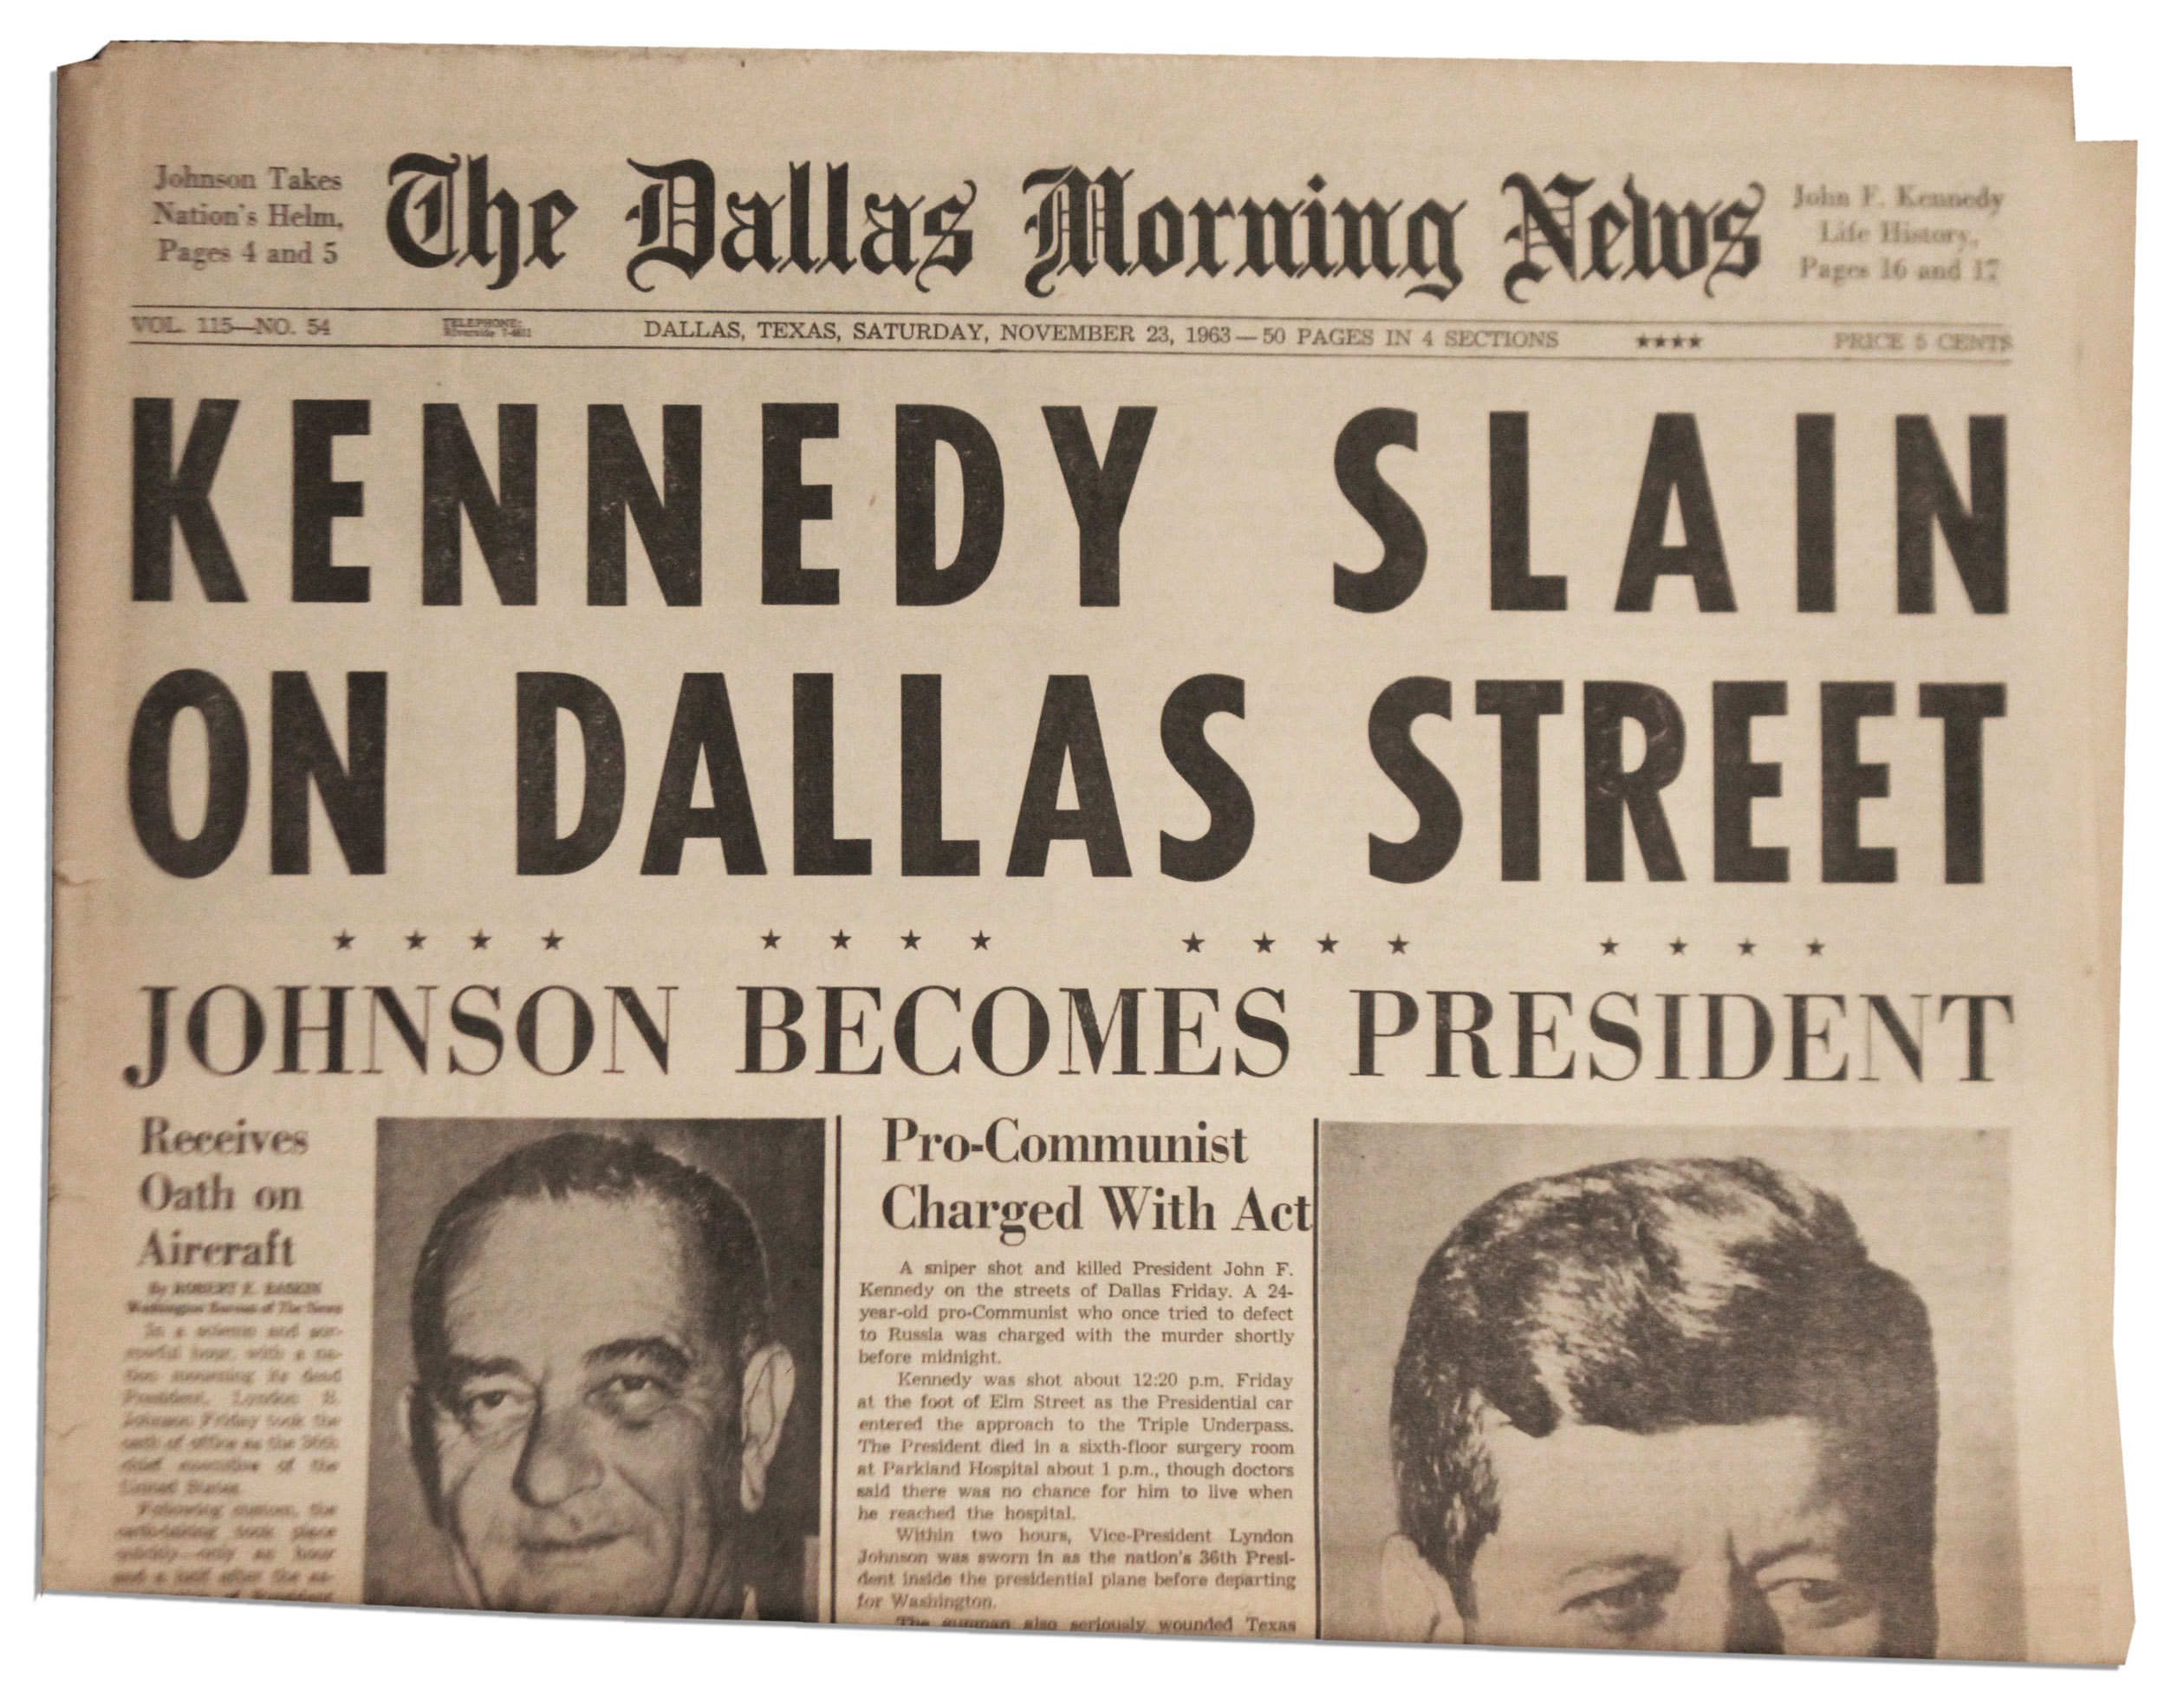news_paper: (35, 37, 2164, 1692)
